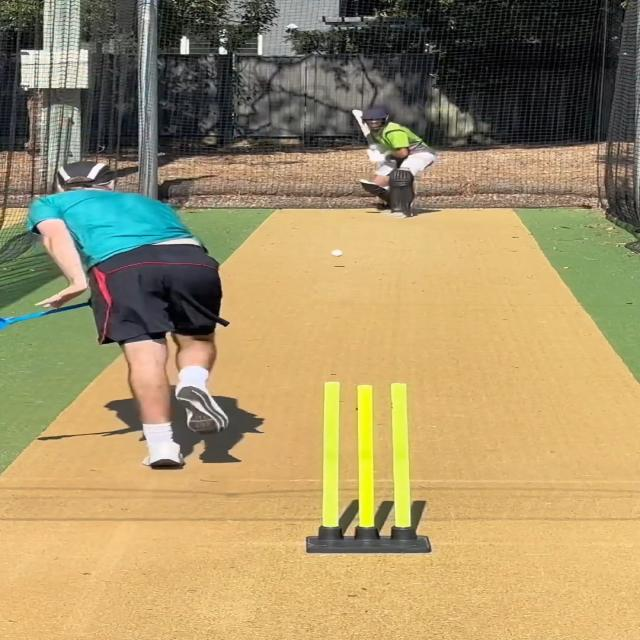ball: (329, 248, 345, 258)
stump: (308, 377, 429, 554)
